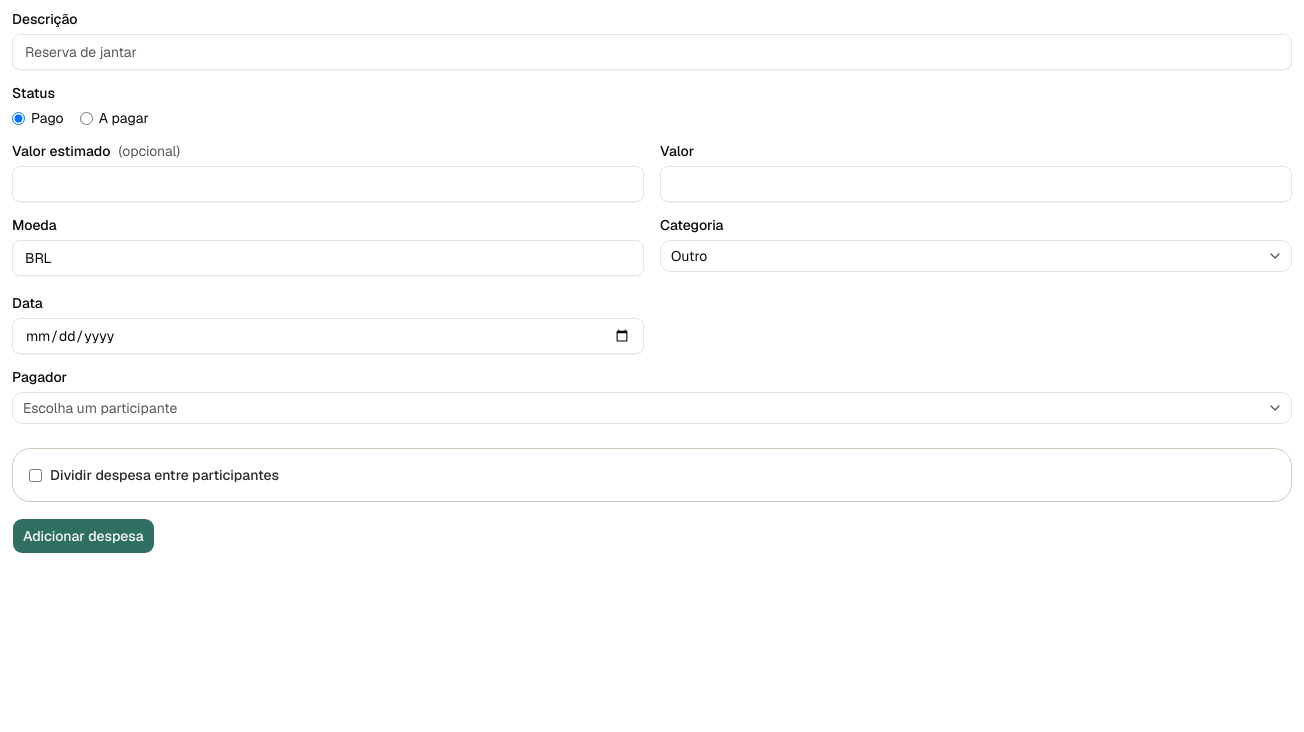
ExpenseForm › splits the amount equally across selected participants once enabled
The image size is (1304, 732).
Type "10.00" into the number field labelled "Valor".
click(976, 184); type("10.00")  # box [660,166,1292,202]
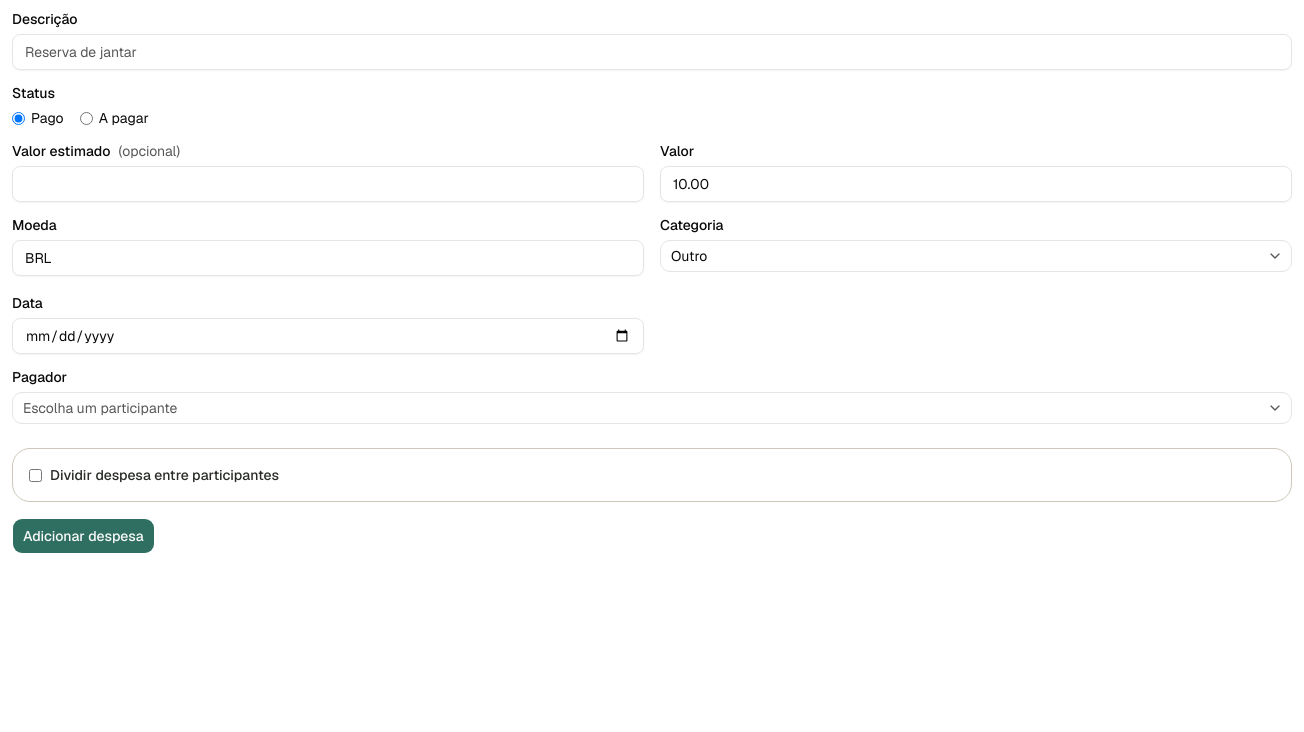
Click the text "Dividir despesa entre participantes".
click(154, 475)  # box [29,466,279,484]
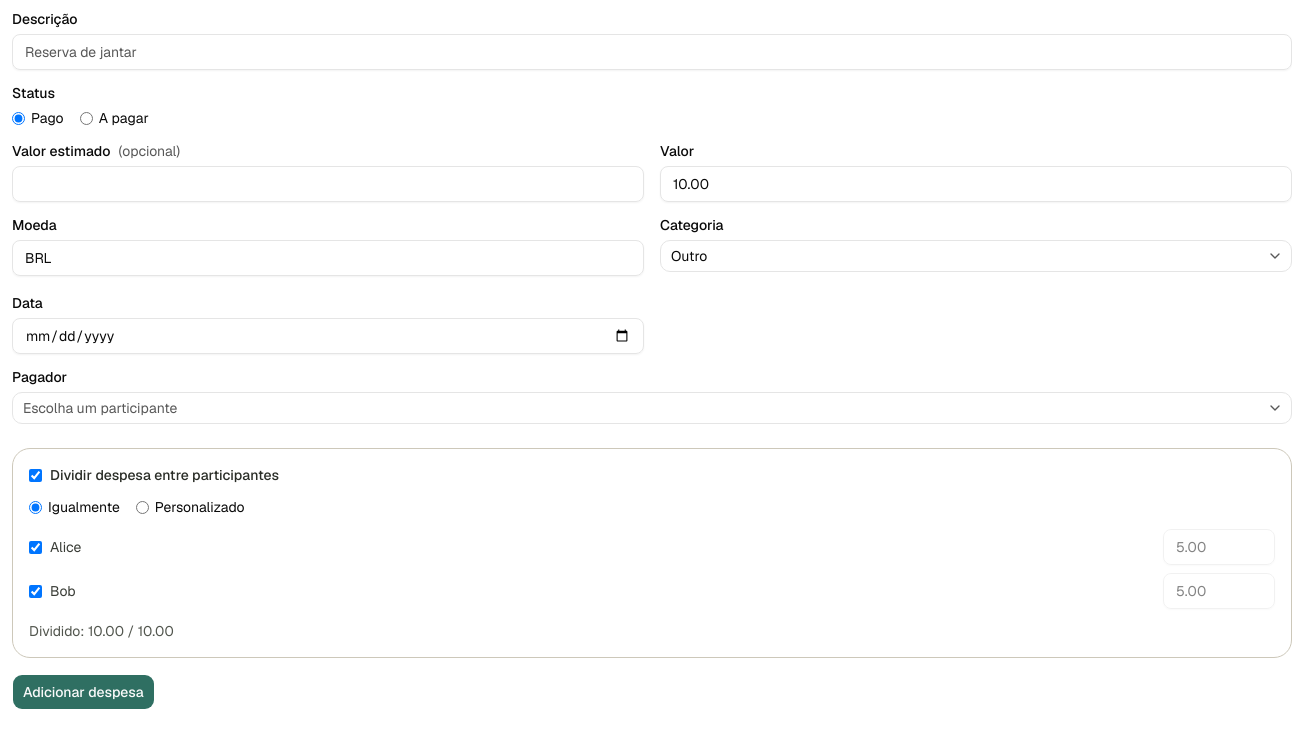
Expected: the text "Dividido: 10.00 / 10.00" is shown, [29,622,174,640]
